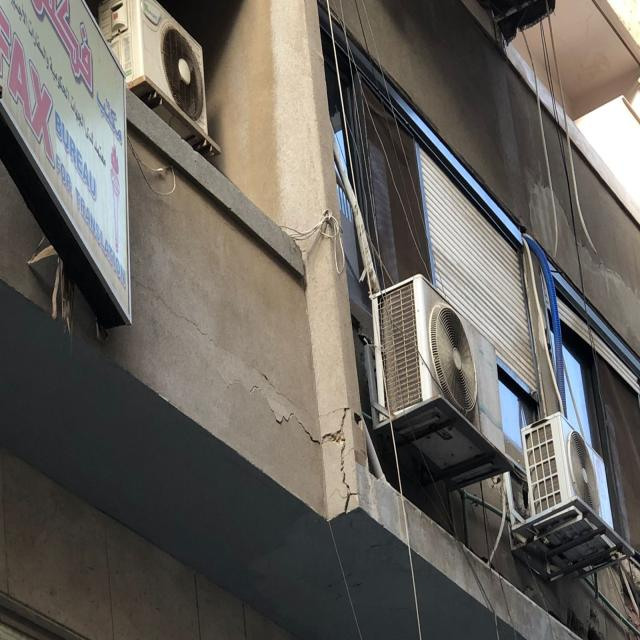concrete spalling: (325, 384, 349, 526)
horizontal crack: (131, 269, 282, 393), (211, 367, 321, 459)
